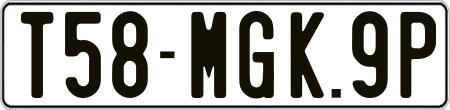5: (64, 11, 103, 97)
8: (111, 8, 147, 97)
9: (349, 8, 389, 100)
G: (237, 11, 274, 101)
K: (290, 12, 324, 103)
M: (188, 10, 225, 97)
P: (398, 9, 429, 97)
T: (20, 10, 57, 96)
